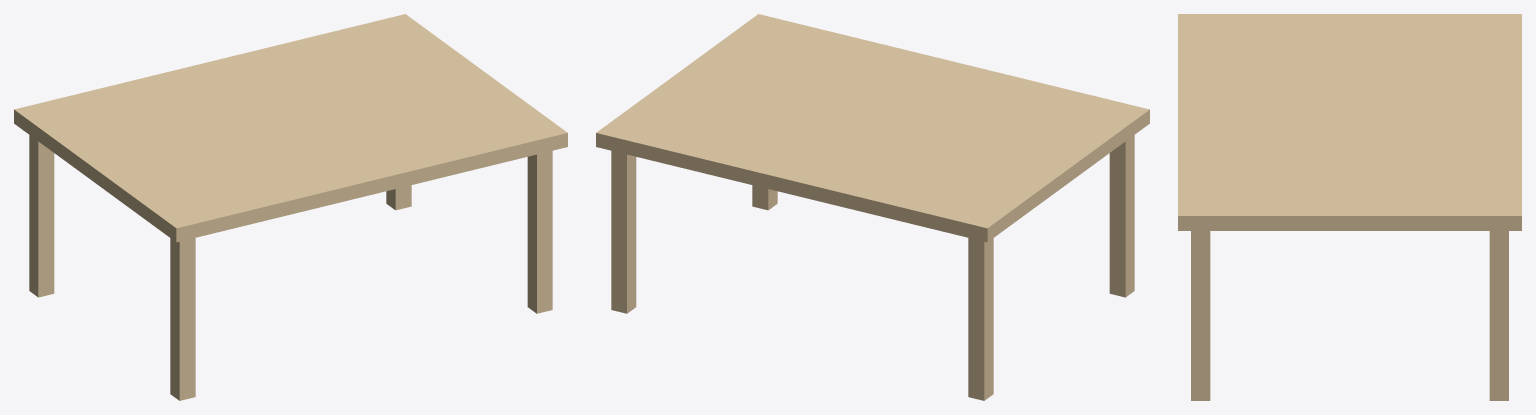
File: reptiles-amphibians-and-minibeasts-terrarium-display-s-19fe30f7__22468.glb
3 renders of one model, left to right at view 1: azimuth 30°, elevation 25°; view 2: azimuth 150°, elevation 25°; view 3: azimuth 270°, elevation 25°, orthographic. The views are drawn at different scales.
Visible parts, largest first — view 1: terrarium-display-shelf-unit; view 2: terrarium-display-shelf-unit; view 3: terrarium-display-shelf-unit.
Part boxes in pixels (x1=…): terrarium-display-shelf-unit: x1=14, y1=14, x2=567, y2=400; terrarium-display-shelf-unit: x1=596, y1=14, x2=1149, y2=400; terrarium-display-shelf-unit: x1=1178, y1=14, x2=1521, y2=400.
Bounding box in the file's own units: 1.6 × 0.7001 × 1.15.
